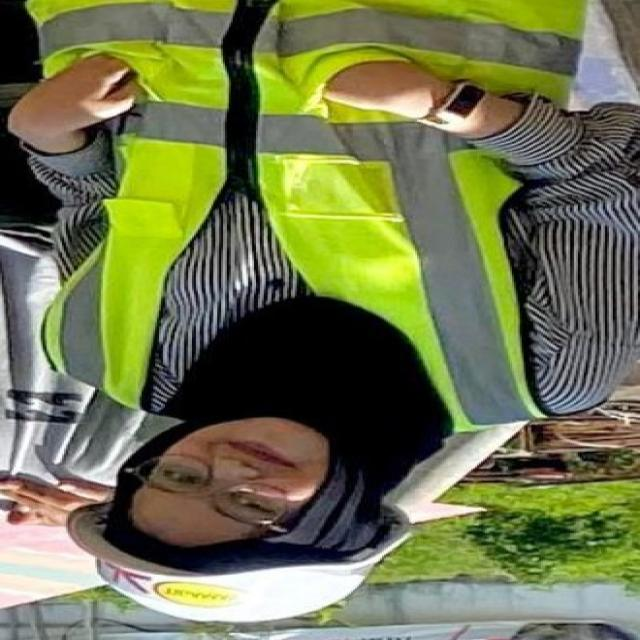safetyhelmet: (64, 450, 418, 622)
